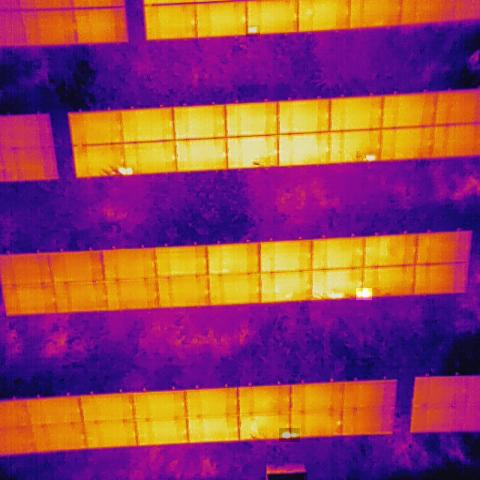fault: (279, 428, 300, 442), (118, 164, 135, 176), (356, 288, 372, 300), (246, 26, 260, 38), (362, 152, 376, 163)
